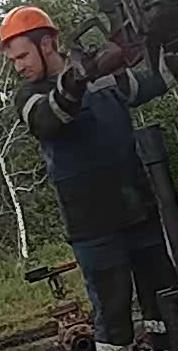gloves: (56, 55, 89, 106)
helmet: (0, 5, 58, 51)
vest: (16, 71, 146, 241)
